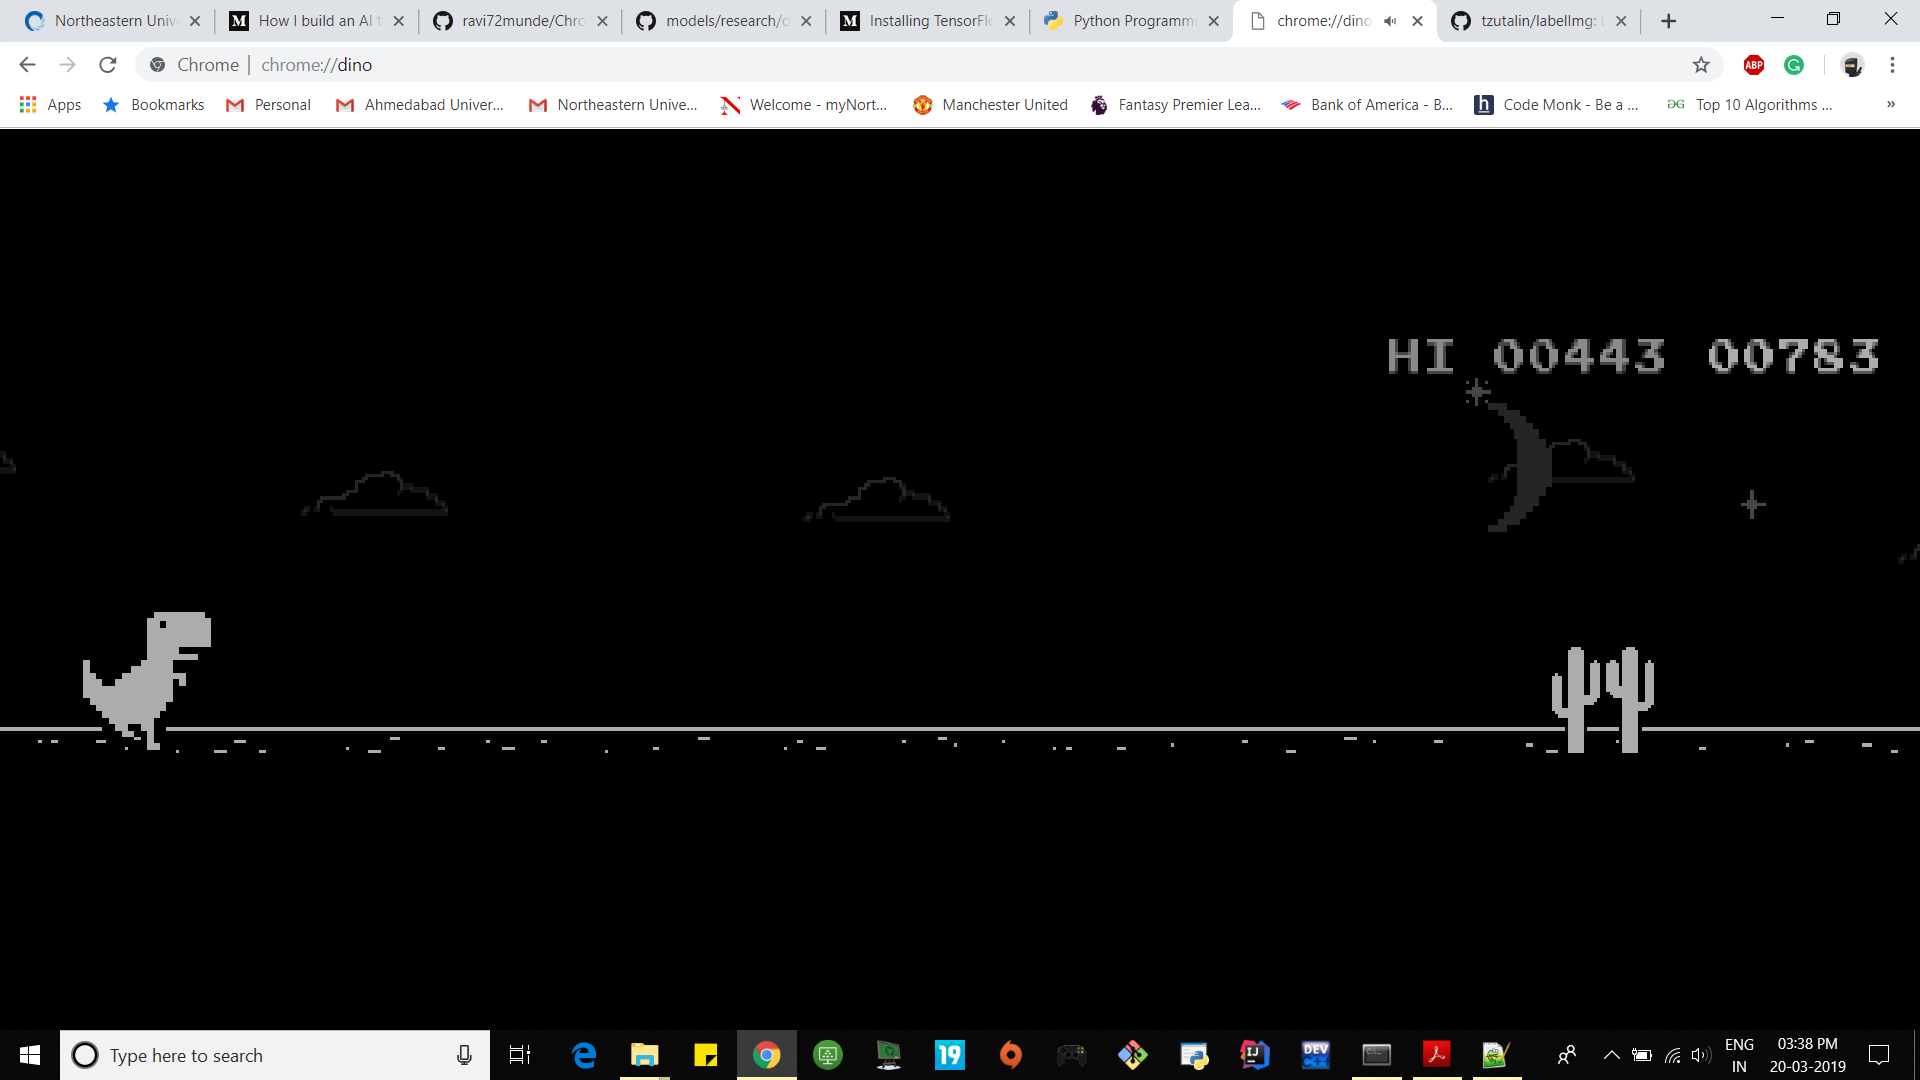cactus-2: (1547, 641, 1659, 758)
dino: (76, 611, 214, 760)
